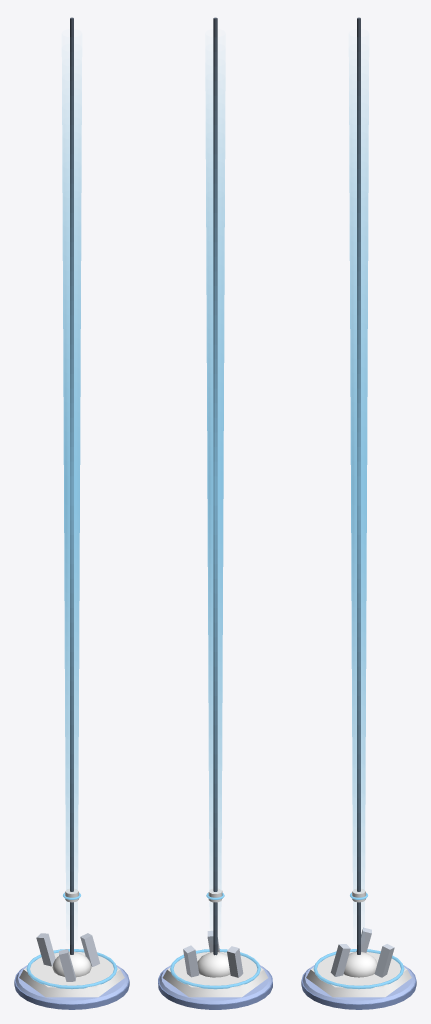
Rendered from tier-18-orbital-elevator.glb.
3 views of the same model, side by side, from view 1: azimuth 90°, elevation 25°; view 2: azimuth 150°, elevation 25°; view 3: azimuth 270°, elevation 25° (orthographic).
Visible parts, largest first — view 1: beam, matte, gloss, glow; view 2: beam, matte, gloss, glow; view 3: beam, matte, gloss, glow.
Boxes of the visible parts, box(x1,y1,x2,y2) form: beam: box(62, 64, 81, 911); matte: box(14, 17, 129, 1009); gloss: box(19, 933, 124, 997); glow: box(26, 949, 117, 989); beam: box(206, 64, 224, 911); matte: box(158, 17, 272, 1009); gloss: box(162, 930, 268, 997); glow: box(170, 949, 260, 989); beam: box(349, 64, 368, 911); matte: box(301, 17, 416, 1009); gloss: box(306, 927, 411, 997); glow: box(313, 949, 404, 989).
Bounding box in the file's own units: 1 × 9.27 × 1.
Materials: 4 (1 with a texture image).
